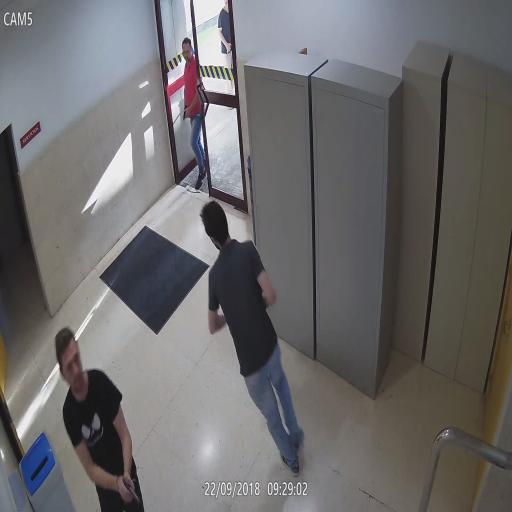Handgun: (120, 474, 144, 504), (182, 100, 189, 122)
